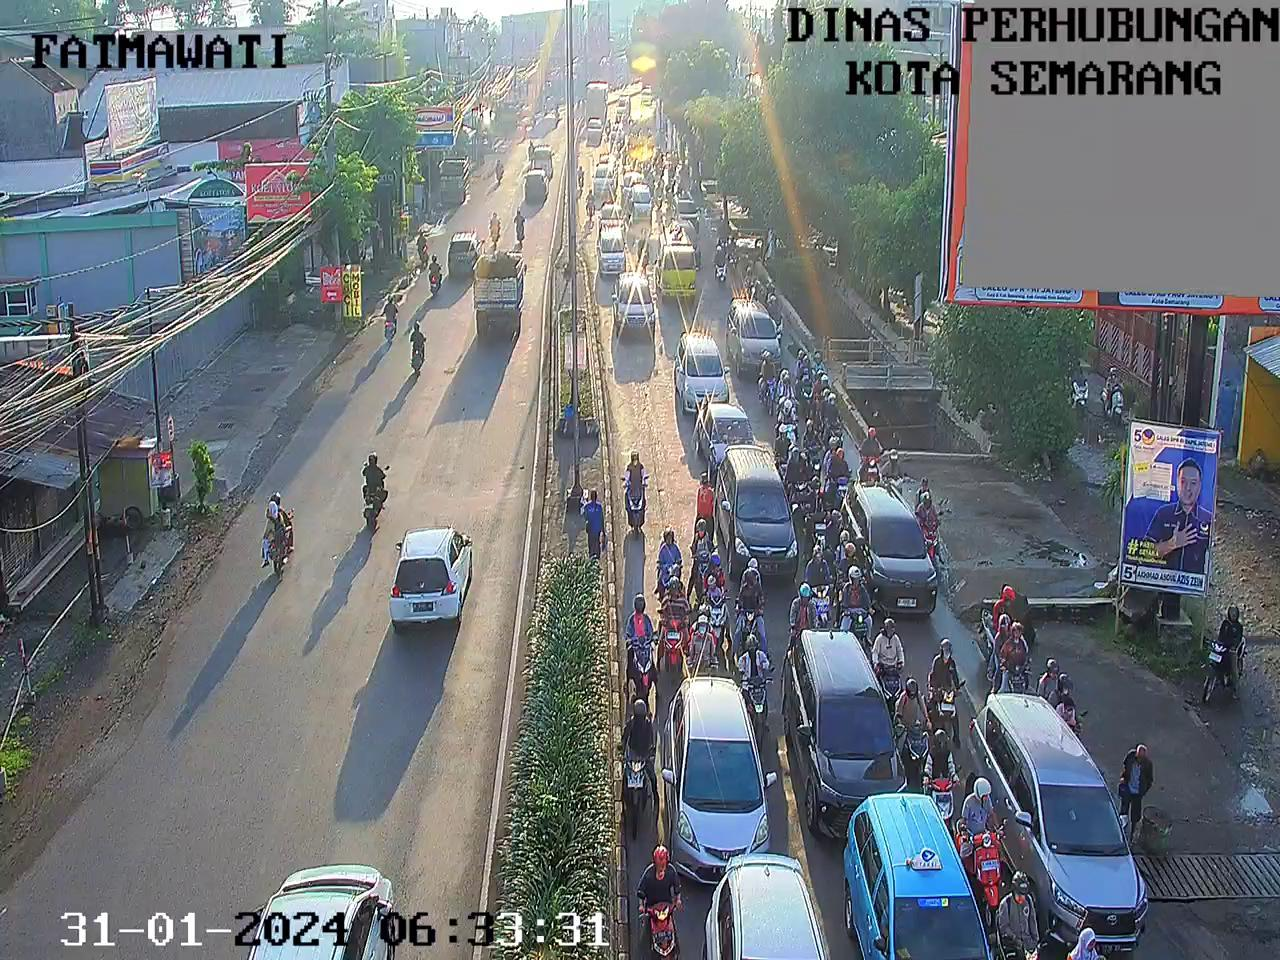bus: (581, 78, 609, 121)
car: (971, 688, 1161, 948), (786, 606, 931, 846), (845, 793, 989, 960), (657, 657, 781, 844), (699, 843, 833, 960), (718, 447, 812, 580), (845, 479, 938, 610), (727, 295, 784, 374), (671, 329, 726, 409), (695, 396, 753, 462), (612, 266, 663, 336), (655, 212, 698, 292), (671, 213, 712, 263), (595, 223, 628, 272), (595, 199, 628, 232), (630, 183, 655, 221), (591, 163, 614, 194), (676, 192, 699, 221), (586, 116, 605, 149), (621, 170, 645, 197), (616, 90, 635, 118), (640, 86, 653, 104)
motorcycle: (635, 839, 693, 960), (962, 770, 1008, 903), (734, 636, 794, 735), (614, 436, 664, 527), (924, 722, 968, 827), (618, 702, 654, 824), (622, 592, 662, 697), (898, 668, 940, 766), (652, 564, 692, 662), (979, 581, 1029, 654), (735, 548, 772, 641), (1038, 654, 1086, 725), (996, 874, 1038, 954), (876, 607, 910, 698), (933, 639, 968, 725), (804, 541, 844, 615), (912, 478, 950, 553), (703, 550, 734, 635), (998, 613, 1033, 686), (842, 562, 876, 636), (686, 512, 718, 580), (791, 583, 829, 635), (657, 514, 684, 586), (688, 608, 715, 681), (762, 286, 791, 338), (821, 388, 849, 443), (758, 345, 783, 400), (804, 483, 828, 535), (825, 439, 850, 490), (798, 415, 821, 464), (785, 439, 811, 481), (878, 451, 908, 487), (773, 398, 796, 445), (857, 426, 877, 476), (796, 350, 814, 399), (775, 362, 792, 402), (836, 526, 855, 559), (811, 346, 826, 381), (745, 265, 759, 299), (715, 241, 727, 280), (639, 238, 650, 271), (577, 161, 588, 194), (583, 188, 597, 212), (658, 153, 670, 176), (666, 178, 675, 207), (656, 181, 665, 204), (603, 115, 613, 135), (650, 141, 660, 158), (646, 123, 656, 139), (668, 154, 675, 174), (618, 129, 627, 144), (650, 157, 657, 175), (622, 146, 629, 163), (614, 134, 621, 151), (628, 115, 635, 131), (632, 155, 639, 171), (637, 126, 642, 139), (642, 158, 647, 171)
